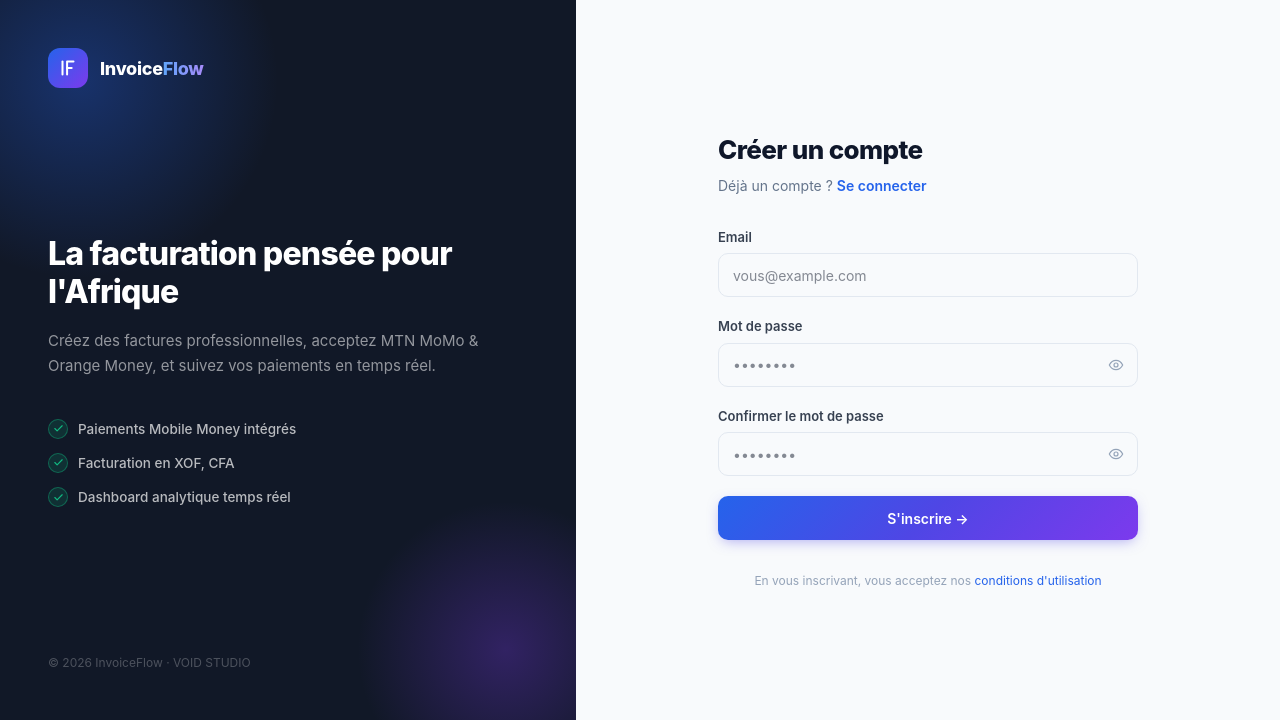
Test case: RegisterPage › affiche un message d'erreur quand l'inscription échoue
This screenshot has width=1280, height=720.
Step 1. Type "user@example.com" into the field with placeholder "vous@example.com" → (928, 275), box [718, 253, 1138, 297]
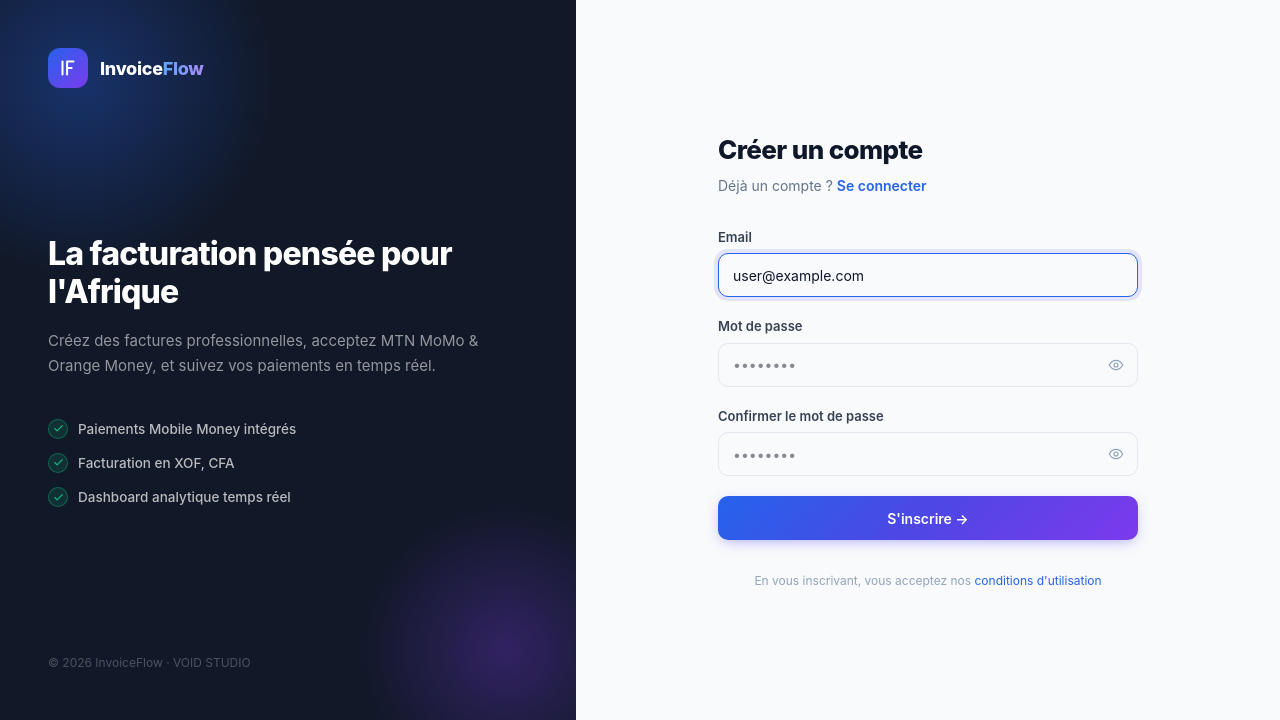
Step 2. Type "motdepasse1" into the 1st password field with placeholder "••••••••" → (928, 365), box [718, 343, 1138, 387]
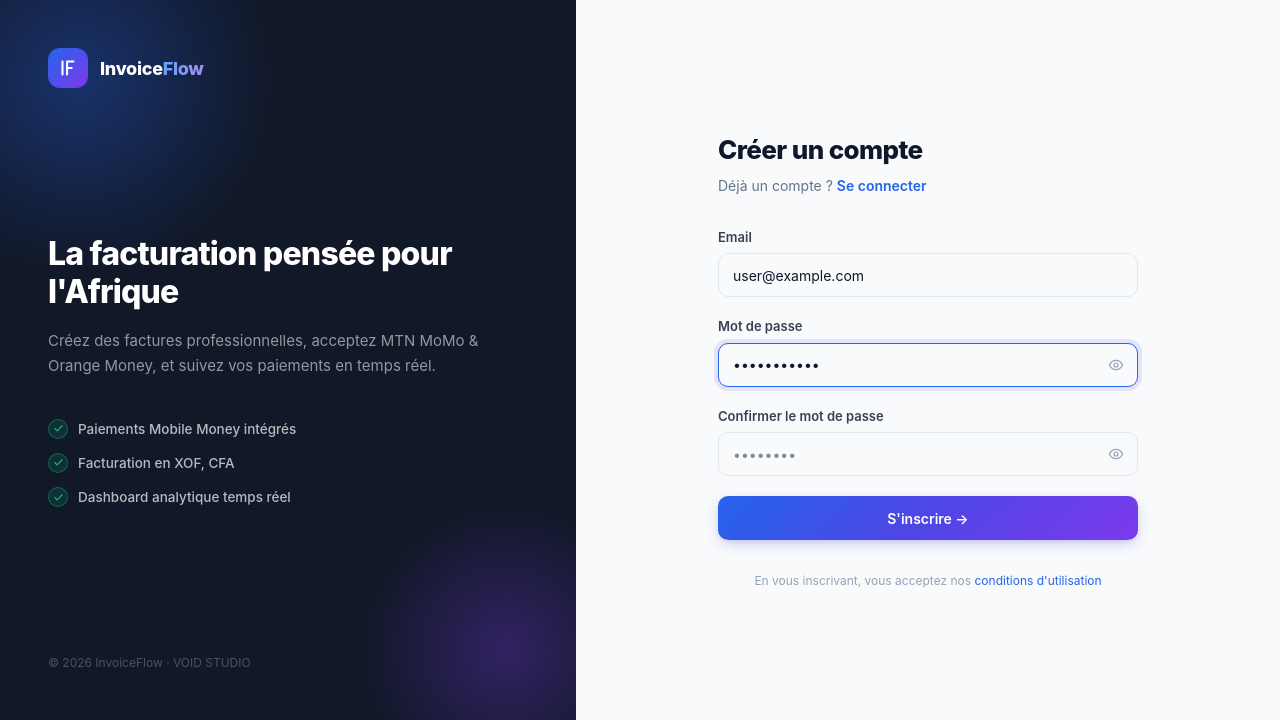
Step 3. Type "motdepasse1" into the password field with placeholder "••••••••" → (928, 454), box [718, 432, 1138, 476]
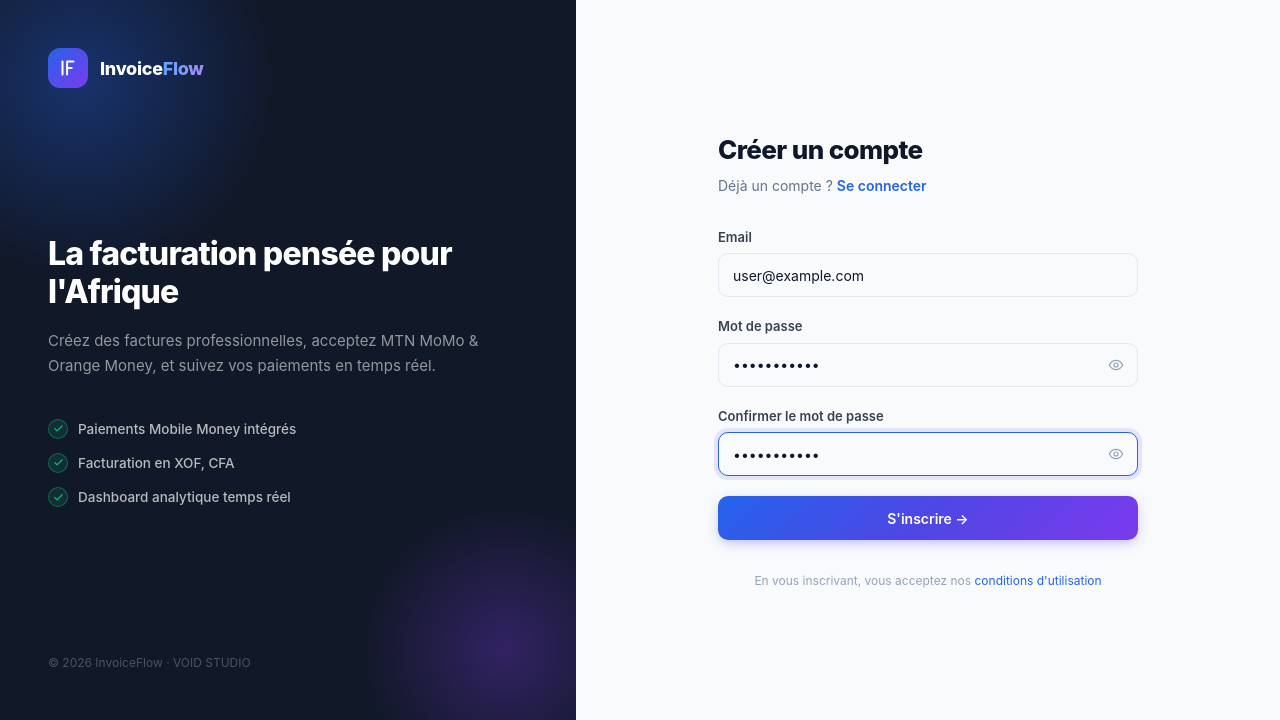
Step 4. Click the button "S'inscrire →" → (928, 518), box [718, 496, 1138, 540]
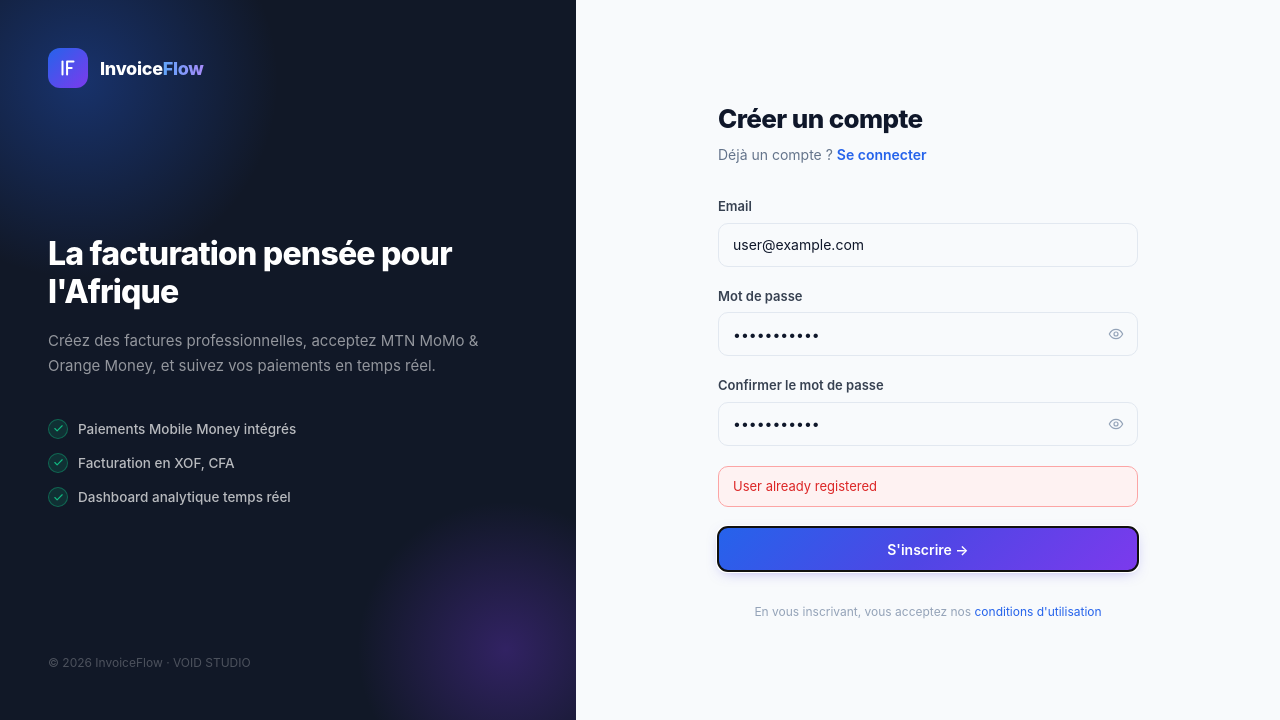
Check: the text "User already registered" is shown, box [718, 466, 1138, 507]
